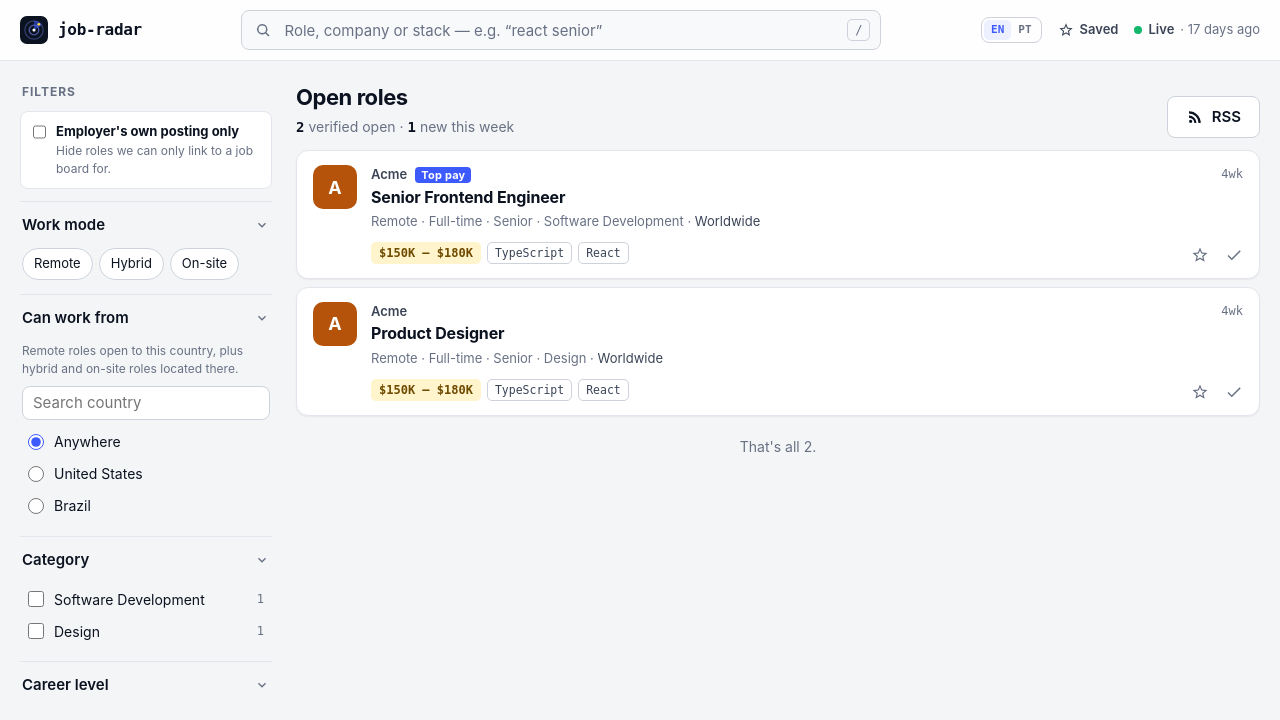
Test: App › opens the full detail page on narrow screens and goes back
Click the link "Senior Frontend Engineer" at point(468, 196), box x1=371 y1=186 x2=565 y2=206
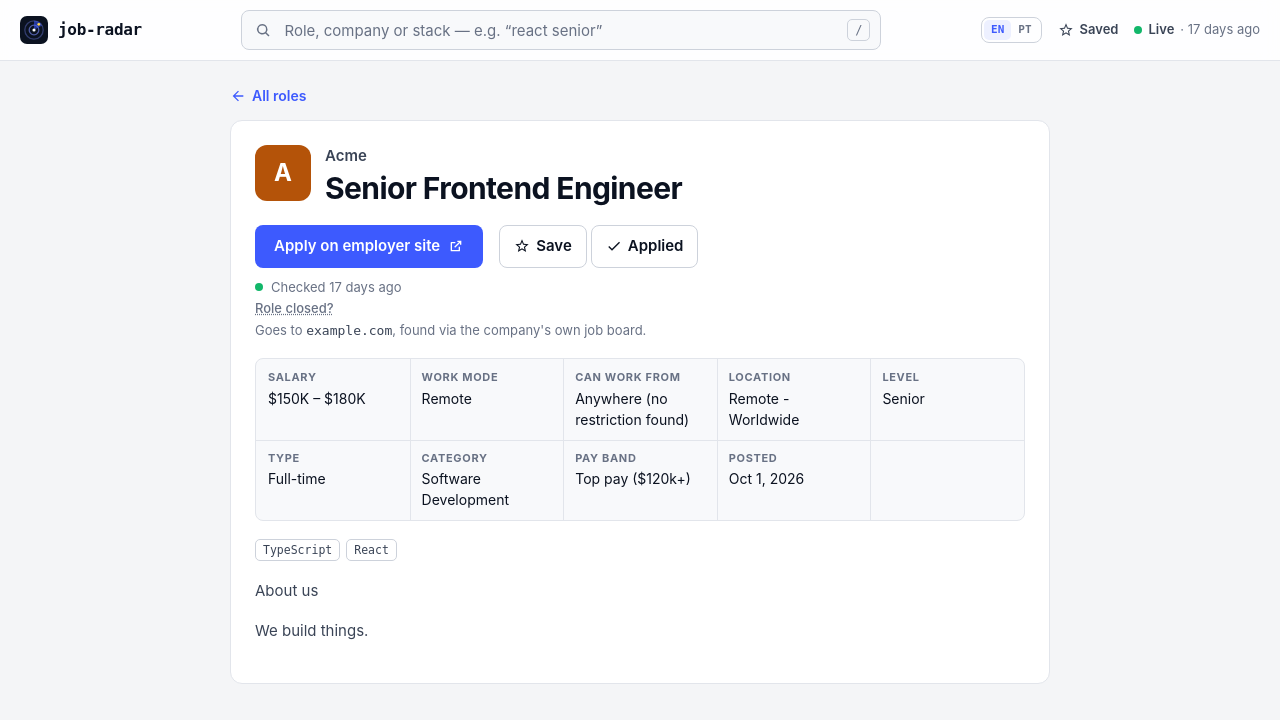
expect the heading "Senior Frontend Engineer" is shown: met, box x1=325 y1=170 x2=682 y2=207
expect the text "We build things." is shown: met, box x1=255 y1=621 x2=368 y2=640
Click the link "All roles" at point(268, 96), box x1=230 y1=85 x2=306 y2=106
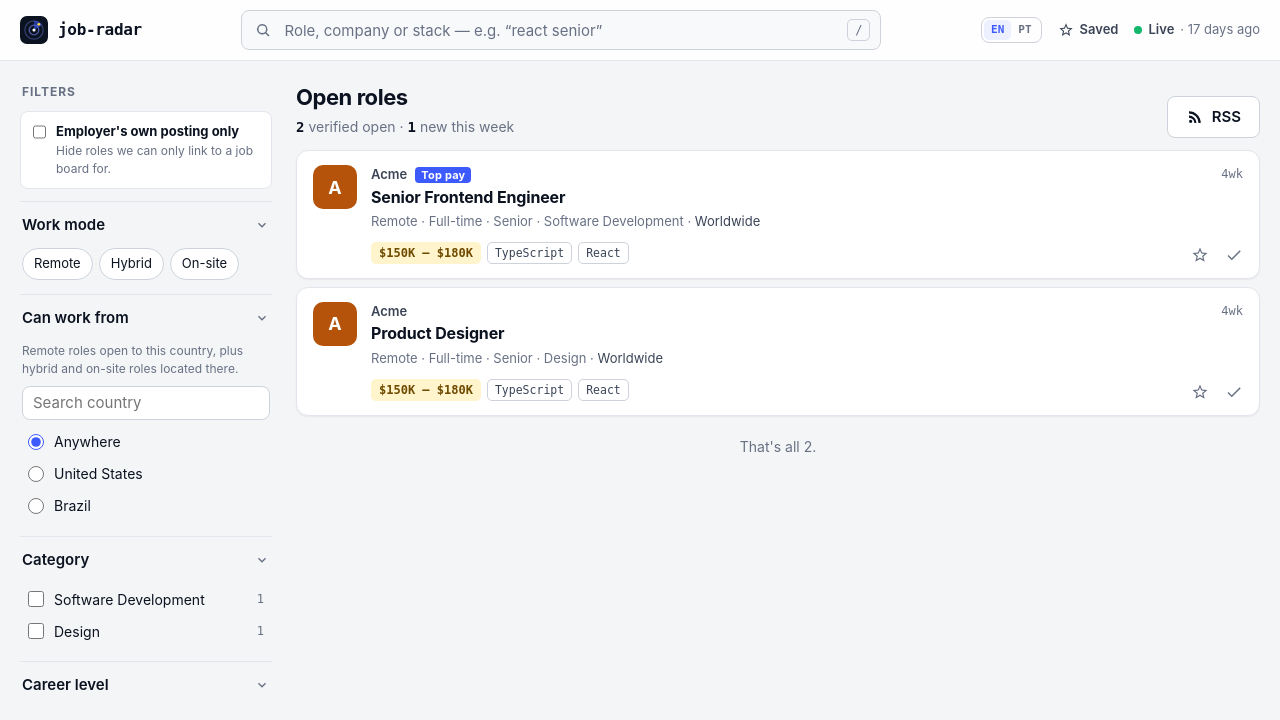
expect the link "Product Designer" is shown: met, box x1=371 y1=324 x2=504 y2=344
